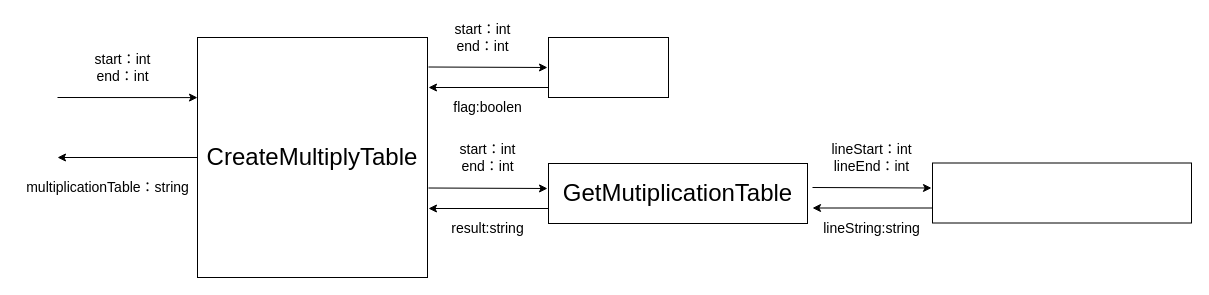
This 1209x295 diagram has some shape labels left out. Each missing label, with the box of its shape:
IsVaild: (548, 36, 668, 98)
PrintLine: (932, 162, 1192, 223)
